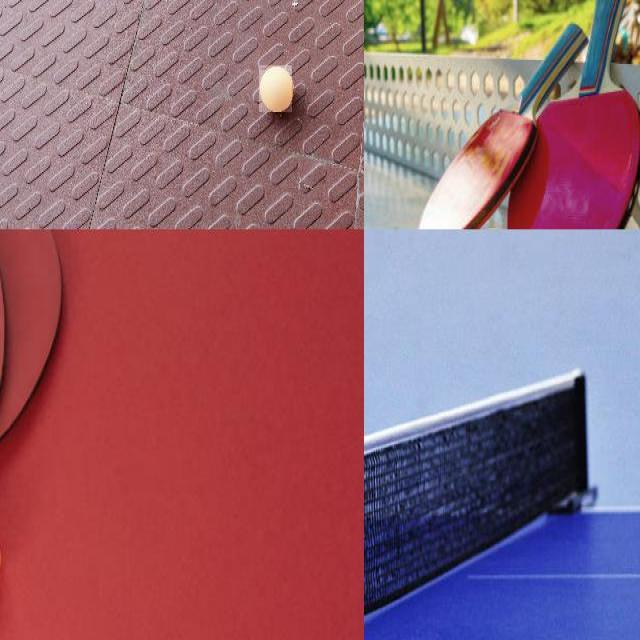ping-pong-ball: (259, 65, 293, 114)
